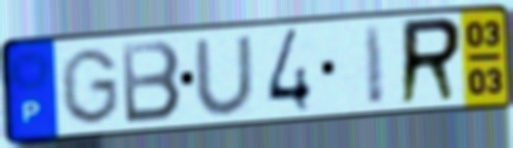4: (261, 25, 317, 116)
B: (118, 38, 184, 127)
G: (57, 45, 122, 128)
I: (360, 21, 387, 109)
R: (396, 14, 465, 109)
U: (190, 32, 258, 118)
